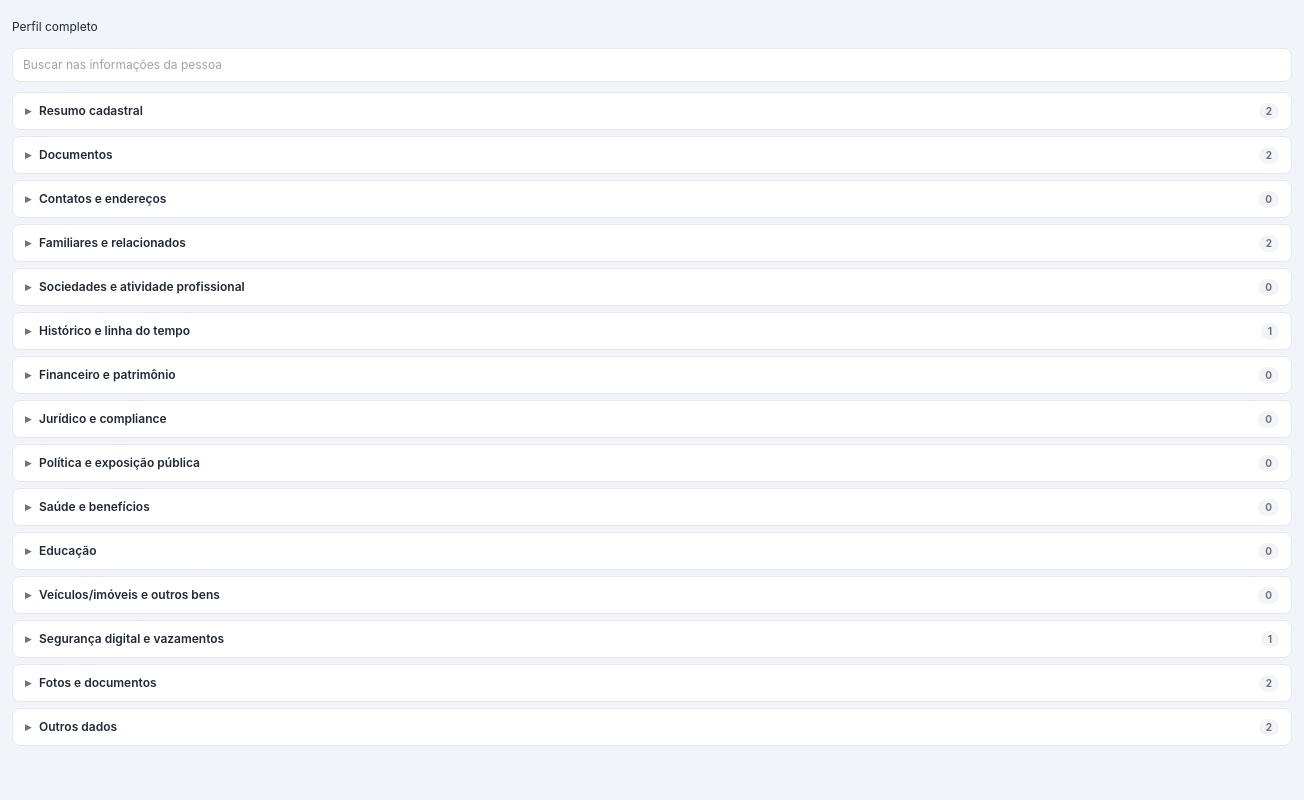
it: PersonProfilePanel — Etapa 2 (categorias, busca, formatação segura) › 18. categoria sem nenhuma chave associada mostra "Nenhum registro encontrado"
Step 1. Click the button "▸ Educação 0" → (68, 550), box [13, 533, 1291, 569]
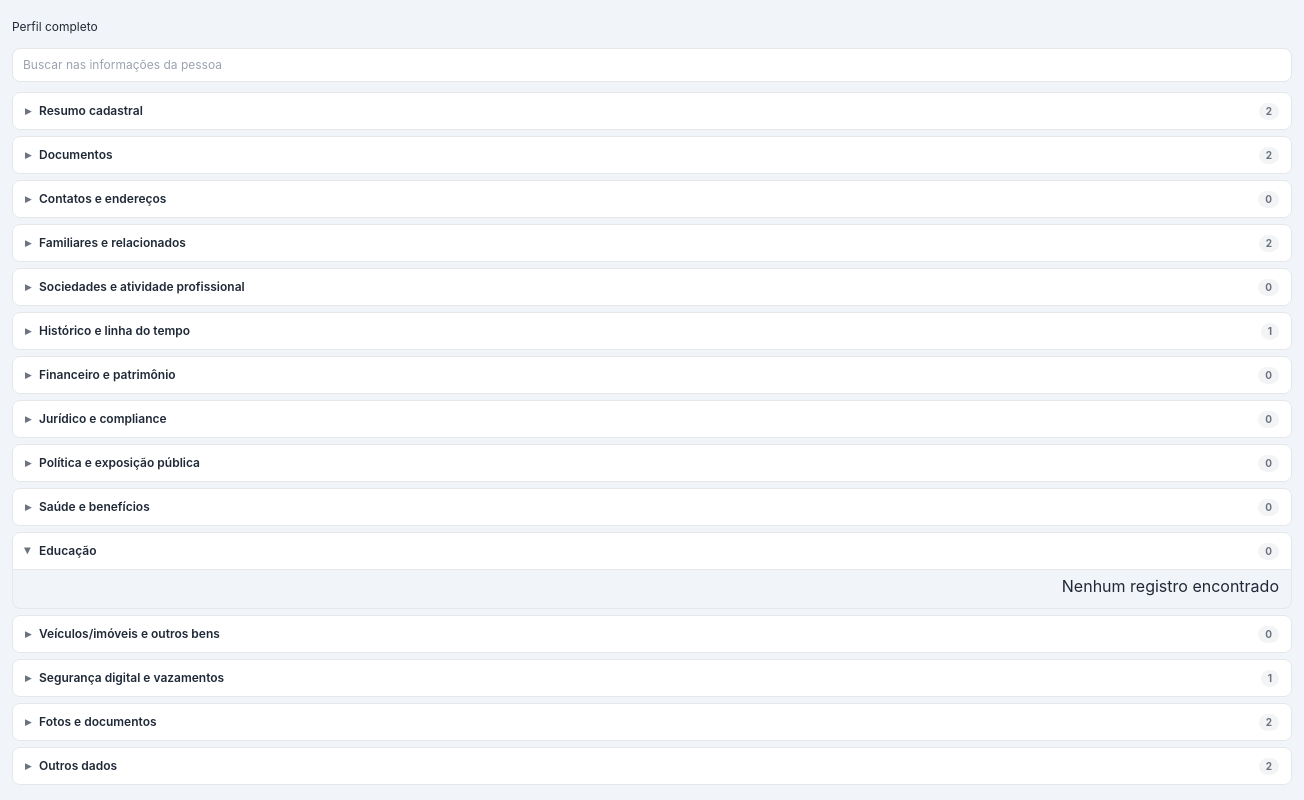
Result: the text "Nenhum registro encontrado" is shown at [1062, 576, 1279, 596]
